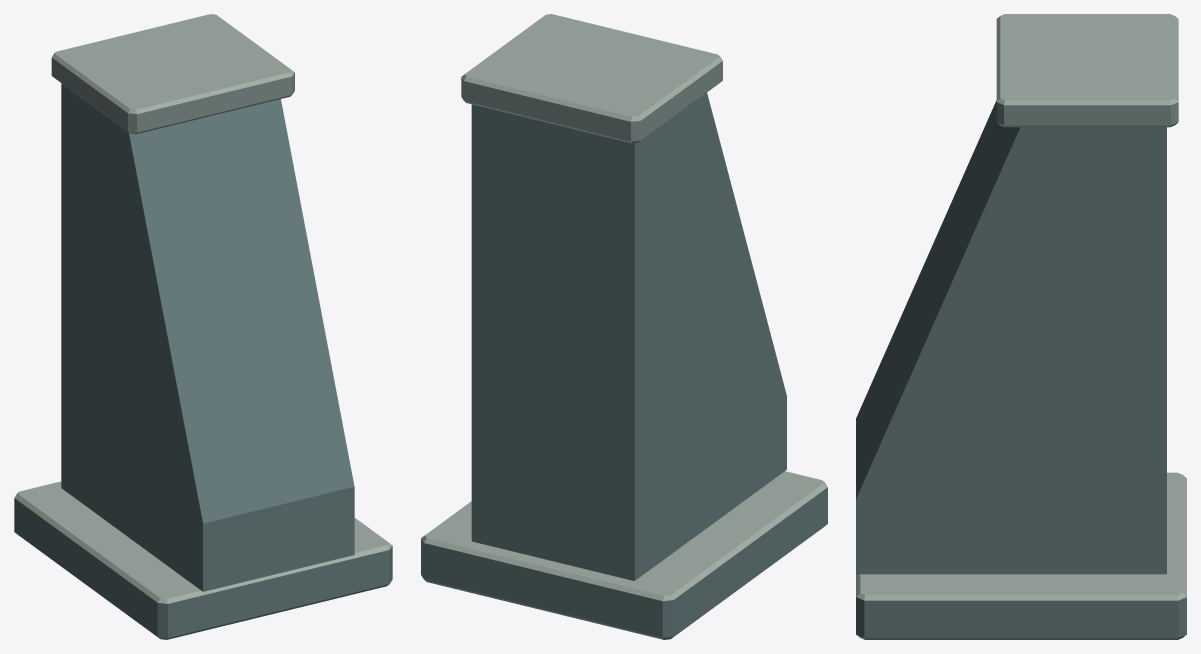
Rendered from buttress.glb.
3 views of the same model, side by side, from view 1: azimuth 30°, elevation 25°; view 2: azimuth 150°, elevation 25°; view 3: azimuth 270°, elevation 25° (orthographic). The views are drawn at different scales.
Visible parts, largest first — view 1: buttress__body; view 2: buttress__body; view 3: buttress__body.
Part boxes in pixels (box(x1,y1,x2,y2)): buttress__body: box(14, 14, 392, 639); buttress__body: box(421, 14, 827, 639); buttress__body: box(856, 14, 1186, 639).
Size of the model in its own units: 0.9 by 1.74 by 1.
